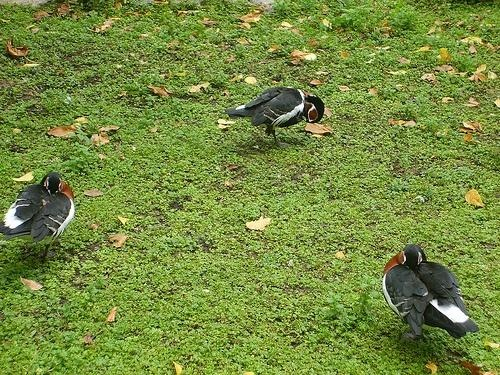bird: (378, 239, 483, 345), (2, 168, 82, 262), (221, 79, 328, 145)
